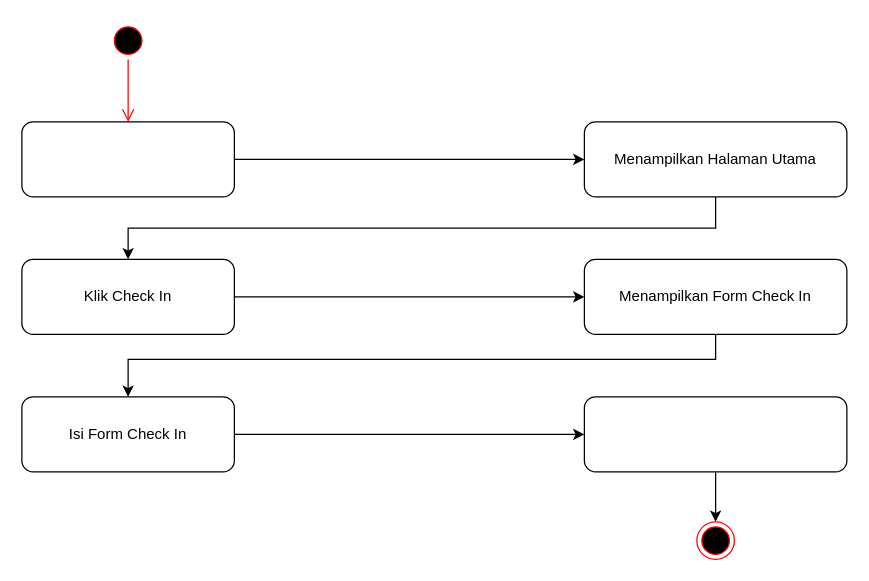
Image size: 869x581. Some labels were removed from this diagram. The shapes that lost their labels are listed below. From the top down, each one's centre as x and y in pixels, then its label:
At point (127, 159): "Login".
At point (715, 434): "Absensi Berhasil".
